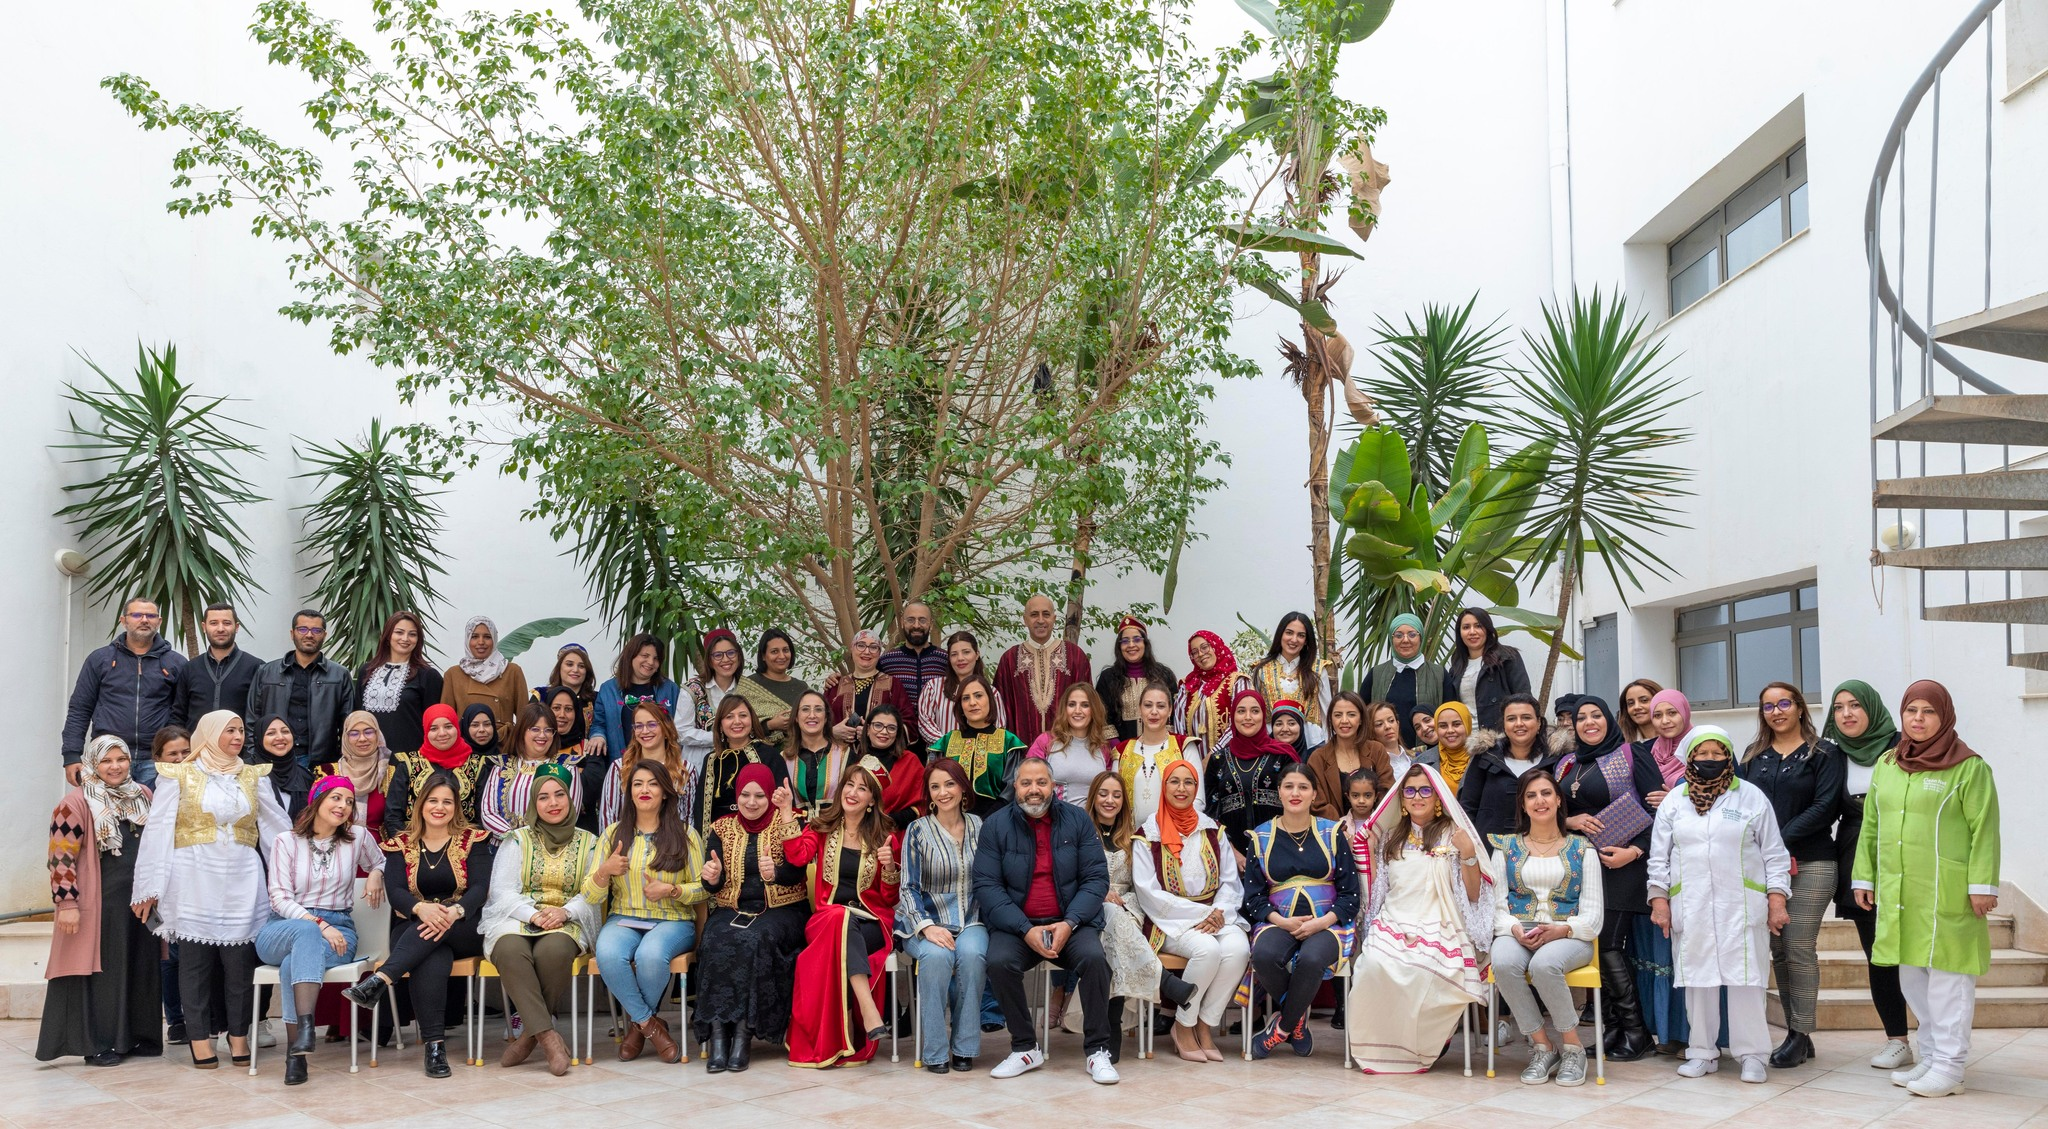without_mask: (1399, 778, 1437, 816), (1908, 702, 1942, 741), (536, 790, 574, 824), (960, 688, 994, 724), (1831, 698, 1868, 730), (1507, 708, 1537, 746), (716, 706, 757, 734), (929, 778, 964, 810), (343, 726, 378, 758), (263, 724, 295, 759), (1277, 779, 1313, 809), (1760, 699, 1796, 730), (1019, 778, 1053, 809), (125, 609, 156, 642), (425, 792, 456, 824), (1168, 772, 1199, 804), (840, 779, 868, 813), (201, 616, 236, 644), (1065, 696, 1095, 727), (1575, 711, 1605, 741), (633, 717, 663, 747), (529, 720, 557, 751), (322, 792, 354, 821), (220, 724, 247, 757), (634, 776, 660, 809), (1233, 703, 1264, 732), (1433, 718, 1464, 745), (291, 624, 326, 648), (758, 642, 792, 666), (389, 627, 419, 655), (636, 651, 663, 680), (1525, 789, 1557, 814), (426, 720, 457, 745), (712, 647, 739, 675), (1030, 606, 1057, 634), (1142, 699, 1167, 728), (1654, 706, 1684, 731), (802, 702, 826, 733), (1463, 621, 1487, 649), (903, 613, 929, 638), (1395, 631, 1423, 655), (1330, 709, 1358, 731), (1284, 627, 1306, 654), (874, 718, 895, 742), (471, 633, 488, 655)
